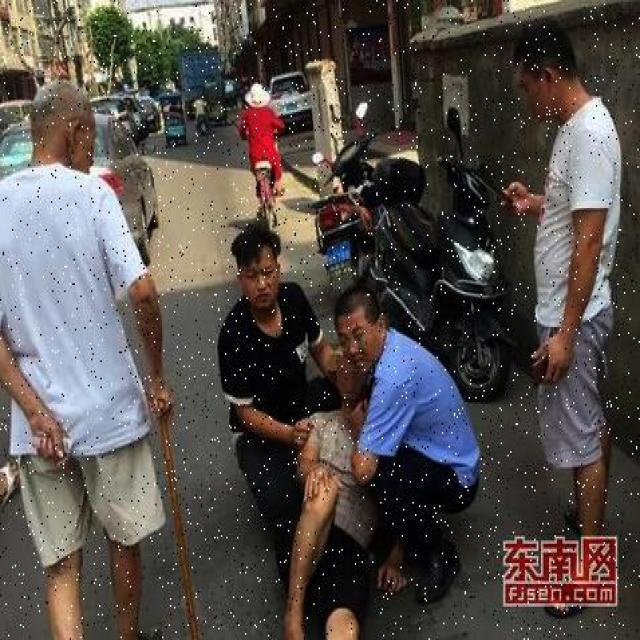fall: (284, 366, 371, 638)
